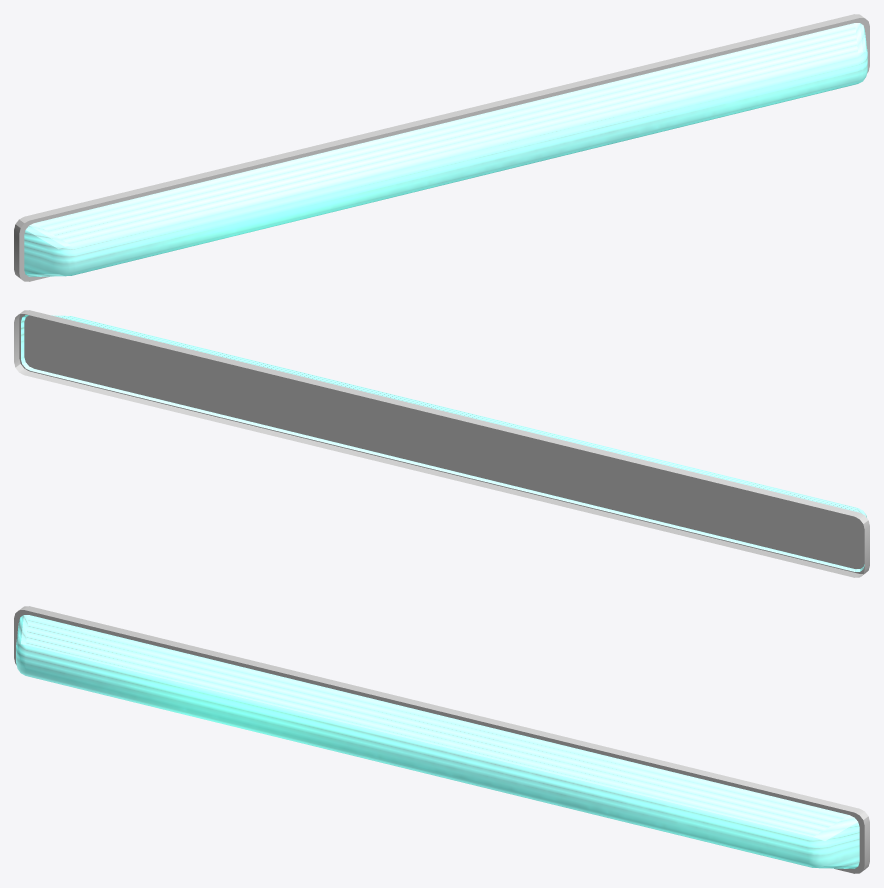
Rendered from KB3D_CBP_Light_A.fbx.
The picture shows the model from 3 angles, top to bottom: view 1: azimuth 30°, elevation 25°; view 2: azimuth 150°, elevation 25°; view 3: azimuth 330°, elevation 25°; orthographic projection.
Visible parts, largest first — view 1: KB3D_CBP_Light_A_Main; view 2: KB3D_CBP_Light_A_Main; view 3: KB3D_CBP_Light_A_Main.
Part boxes in pixels (<box>): KB3D_CBP_Light_A_Main: <box>14,14,869,281</box>; KB3D_CBP_Light_A_Main: <box>14,310,869,577</box>; KB3D_CBP_Light_A_Main: <box>14,606,869,873</box>.
Bounding box in the file's own units: 147 × 10.13 × 8.26.
